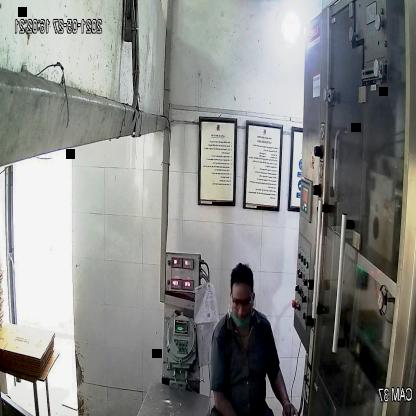goggles: (230, 291, 256, 315)
